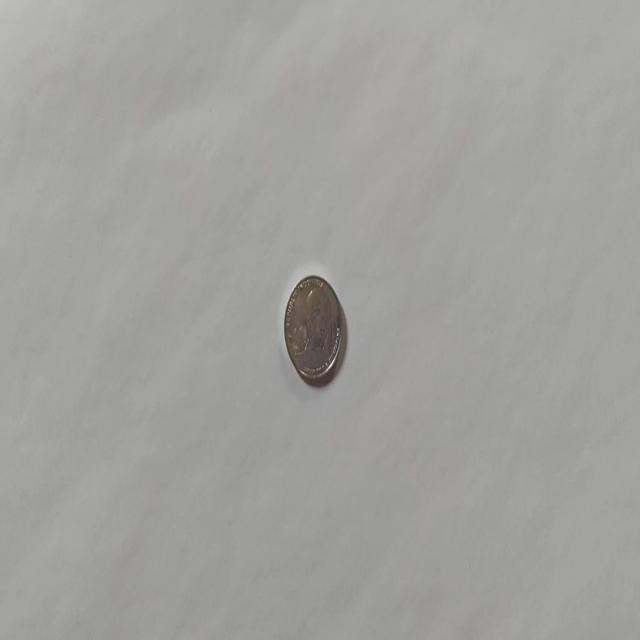lima ratus rupiah: (282, 273, 344, 385)
